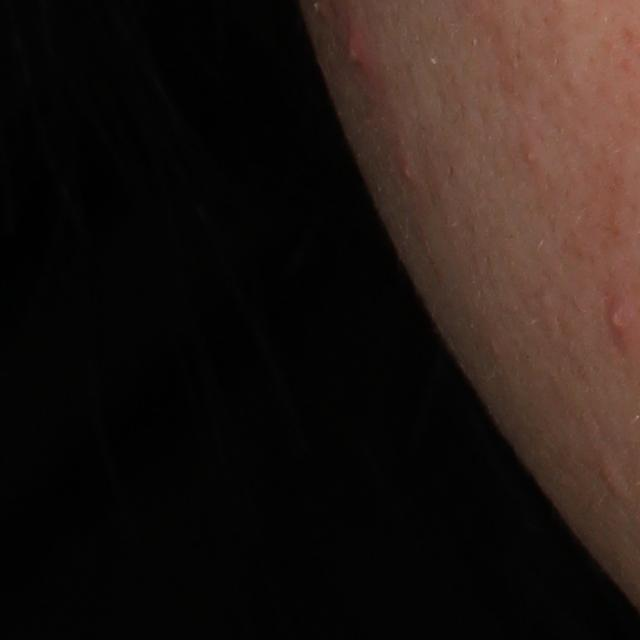comedo: (600, 464, 626, 500)
papule: (337, 30, 365, 70), (607, 302, 635, 336), (521, 143, 542, 167), (400, 161, 416, 182)
